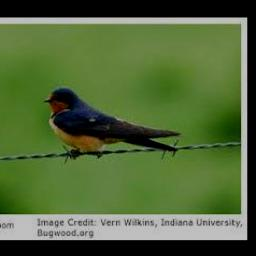Swallow: (43, 87, 181, 153)
